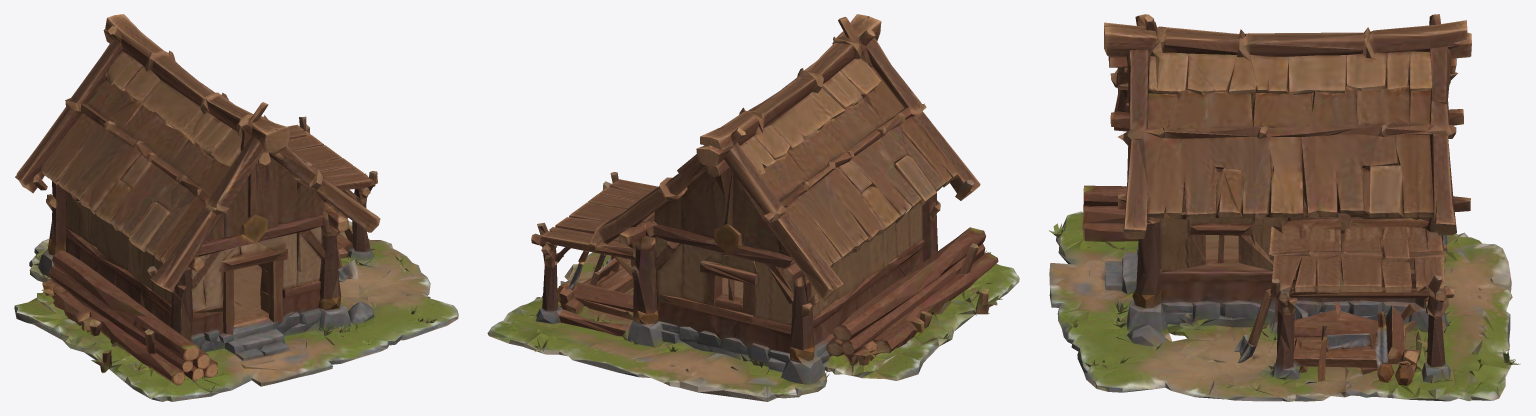
Rendered from lumbercamp.glb.
3 views of the same model, side by side, from view 1: azimuth 30°, elevation 25°; view 2: azimuth 150°, elevation 25°; view 3: azimuth 270°, elevation 25° (orthographic). The views are drawn at different scales.
Size of the model in its own units: 1.88 by 1.22 by 1.88.
Materials: 1 (1 with a texture image).
